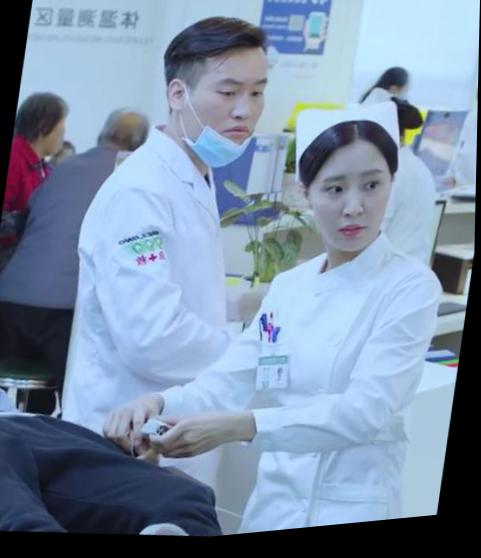NONE: (312, 158, 397, 266)
WRONG: (186, 59, 272, 170)
